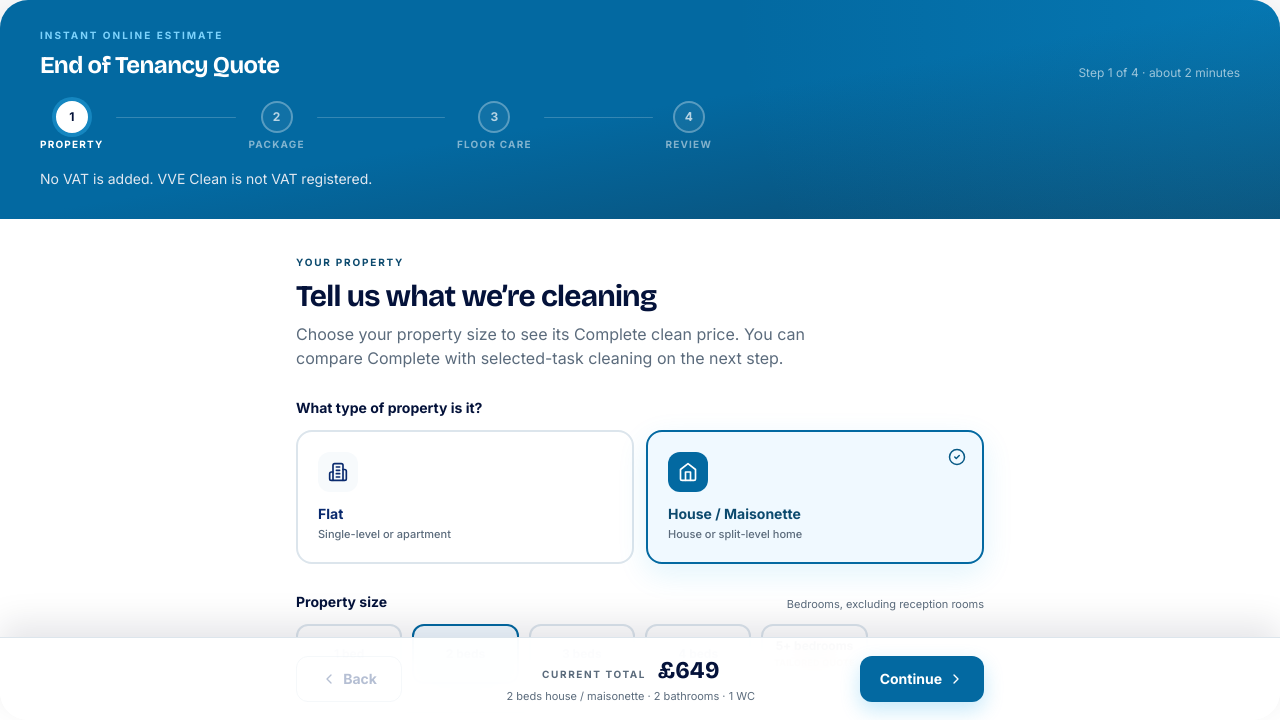
Test: manual quote contact messages › describes only the selected exceptional condition, includes choices and leaves photos to the customer
The width and height of the screenshot is (1280, 720).
Click the button "Continue" at (922, 679), box left=860, top=656, right=984, bottom=702
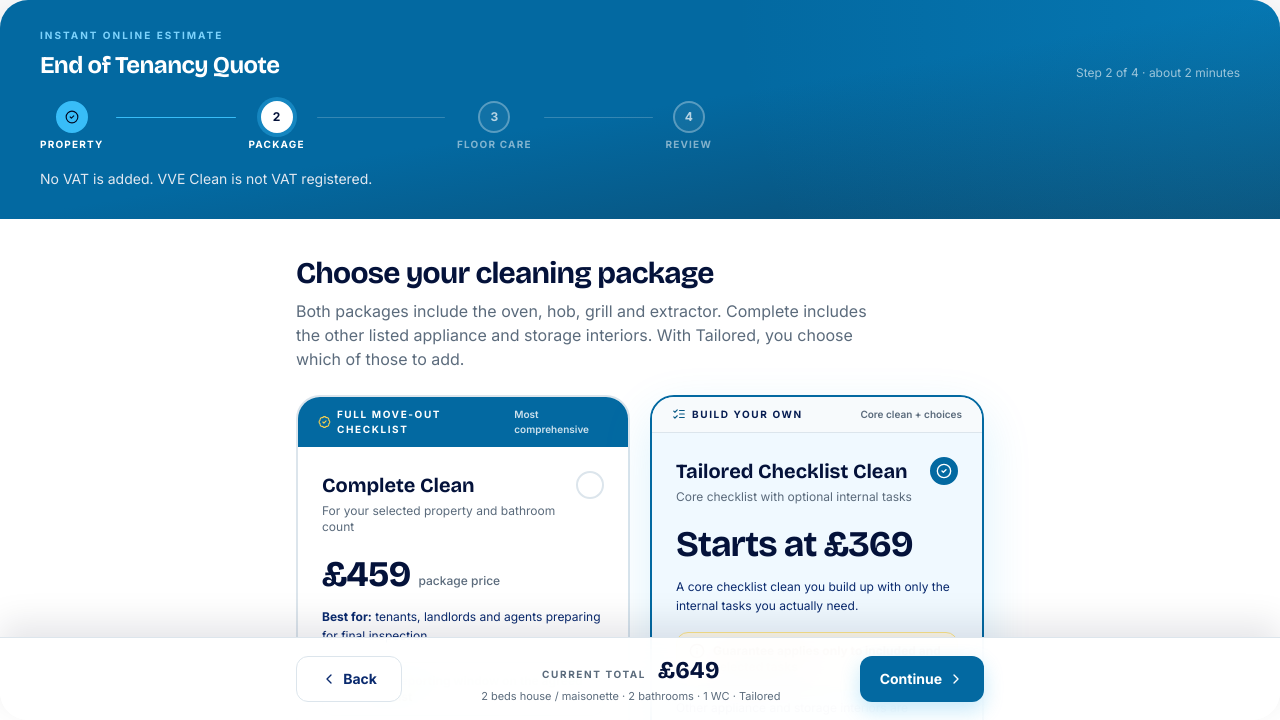
Click the button "Continue" at (922, 679), box left=860, top=656, right=984, bottom=702
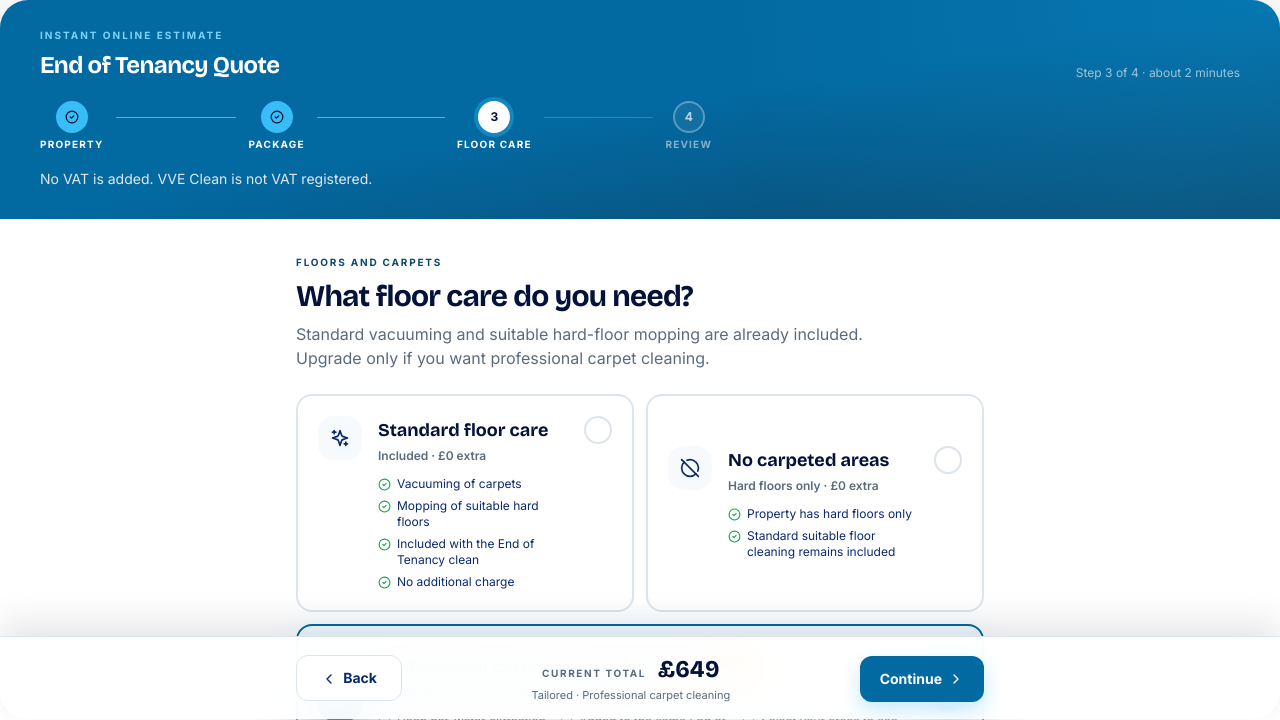
Click the button "Continue" at (922, 679), box left=860, top=656, right=984, bottom=702
(page scrolled)
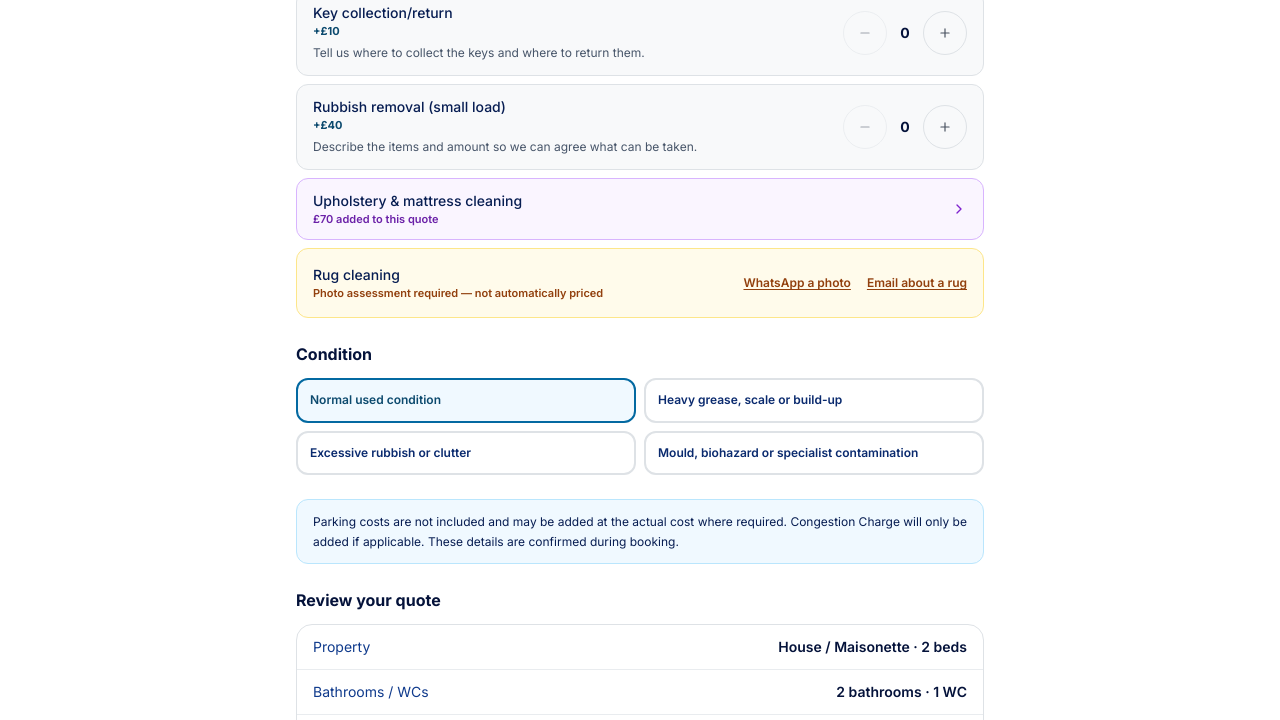
Click the button "Heavy grease, scale or build-up" at (814, 401), box left=644, top=378, right=984, bottom=423
(page scrolled)
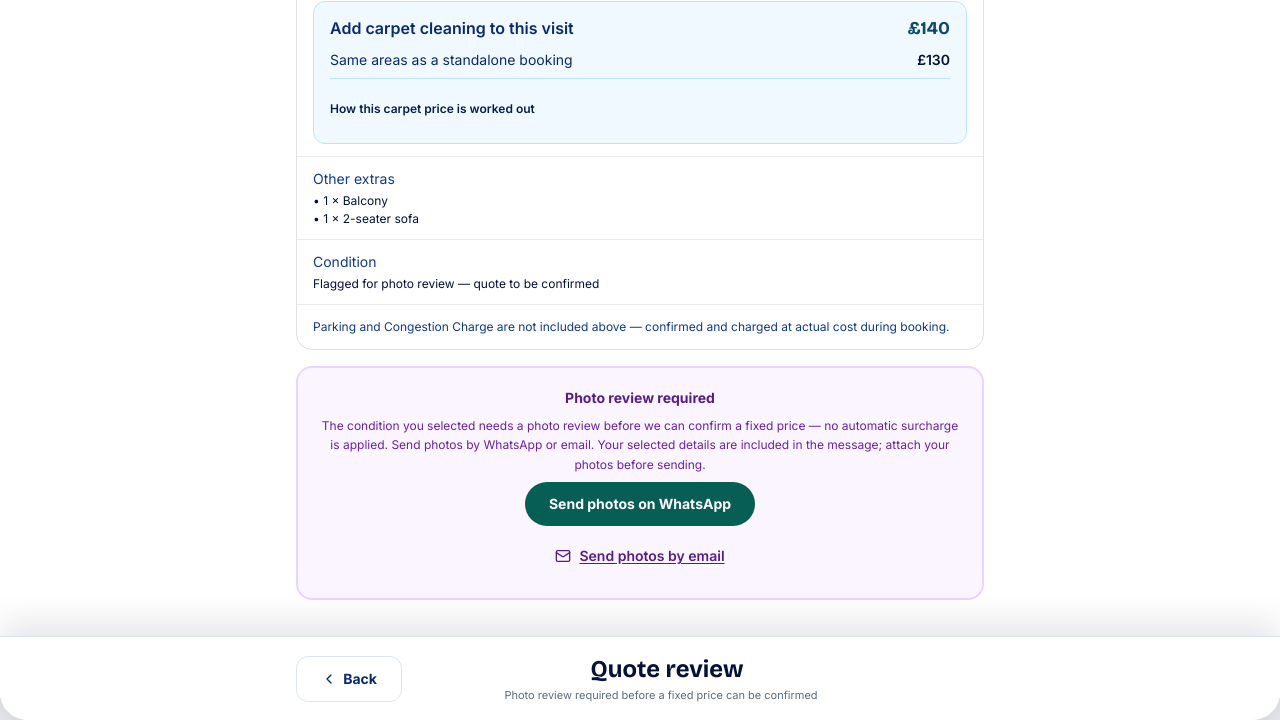
Result: the text "attach your photos before sending" is shown at left=322, top=418, right=958, bottom=472
